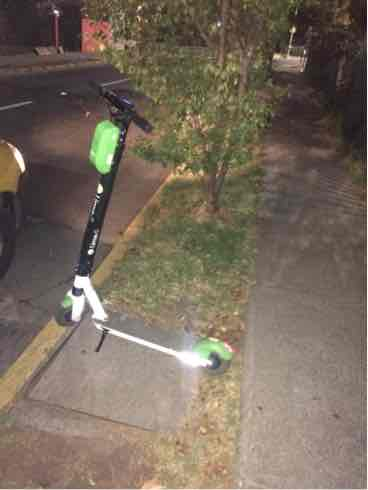too close: (39, 271, 109, 340)
